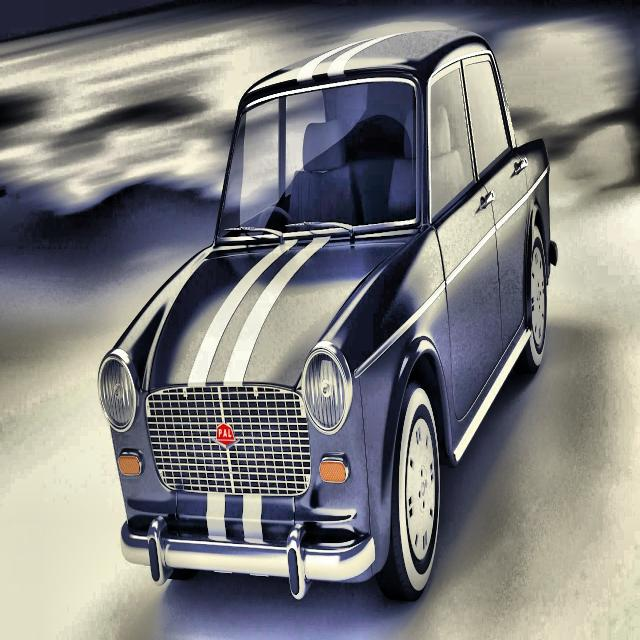Car: (98, 31, 557, 600)
